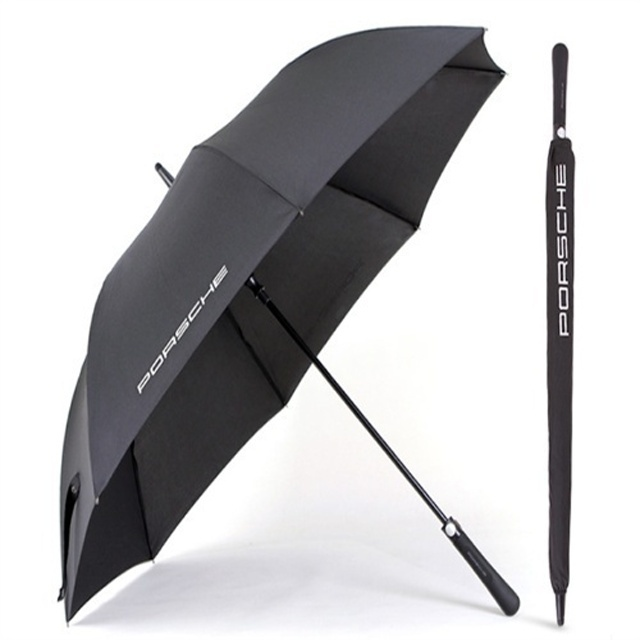umbrella: (51, 21, 524, 630), (542, 40, 578, 629)
